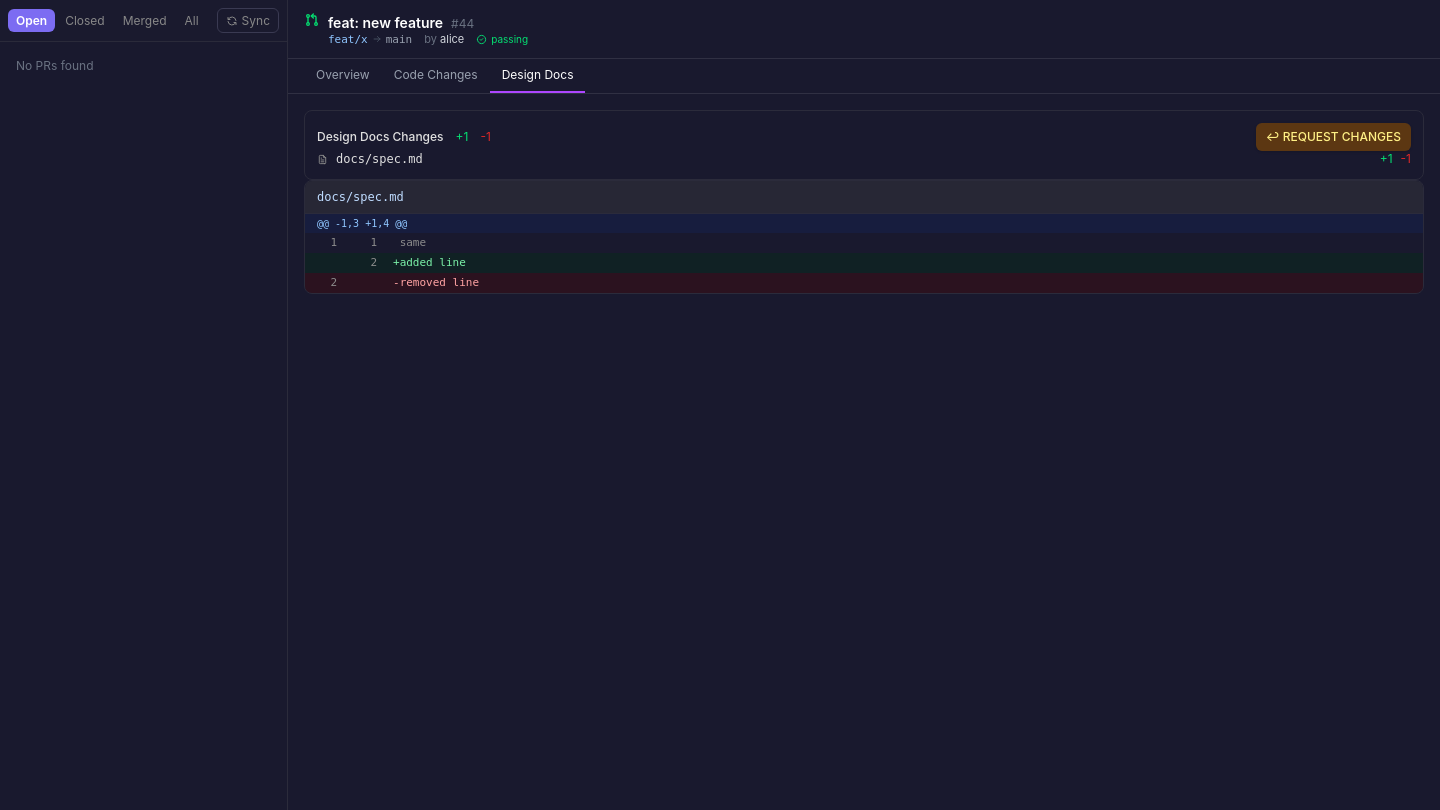
PRScreen — TabDesignDocs › RequestChangesPanel: status=error のときエラー文を表示
What coordinates should you click on to do the following:
click the button "↩ REQUEST CHANGES"
I would click on:
 (1333, 137)
Its box is [1256,123,1411,151].
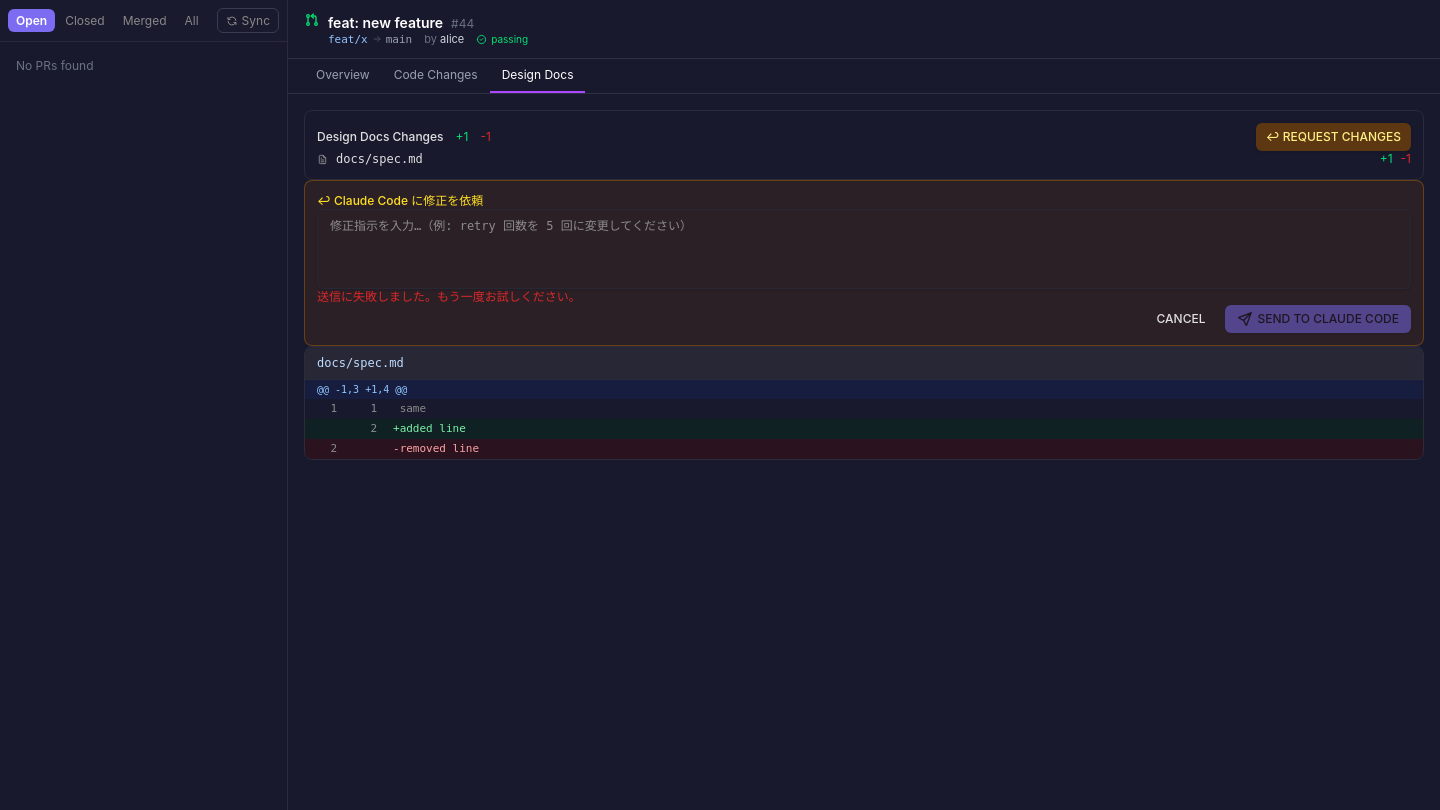
Result: the text "送信に失敗しました。もう一度お試しください。" is shown at [317,289,581,304]
